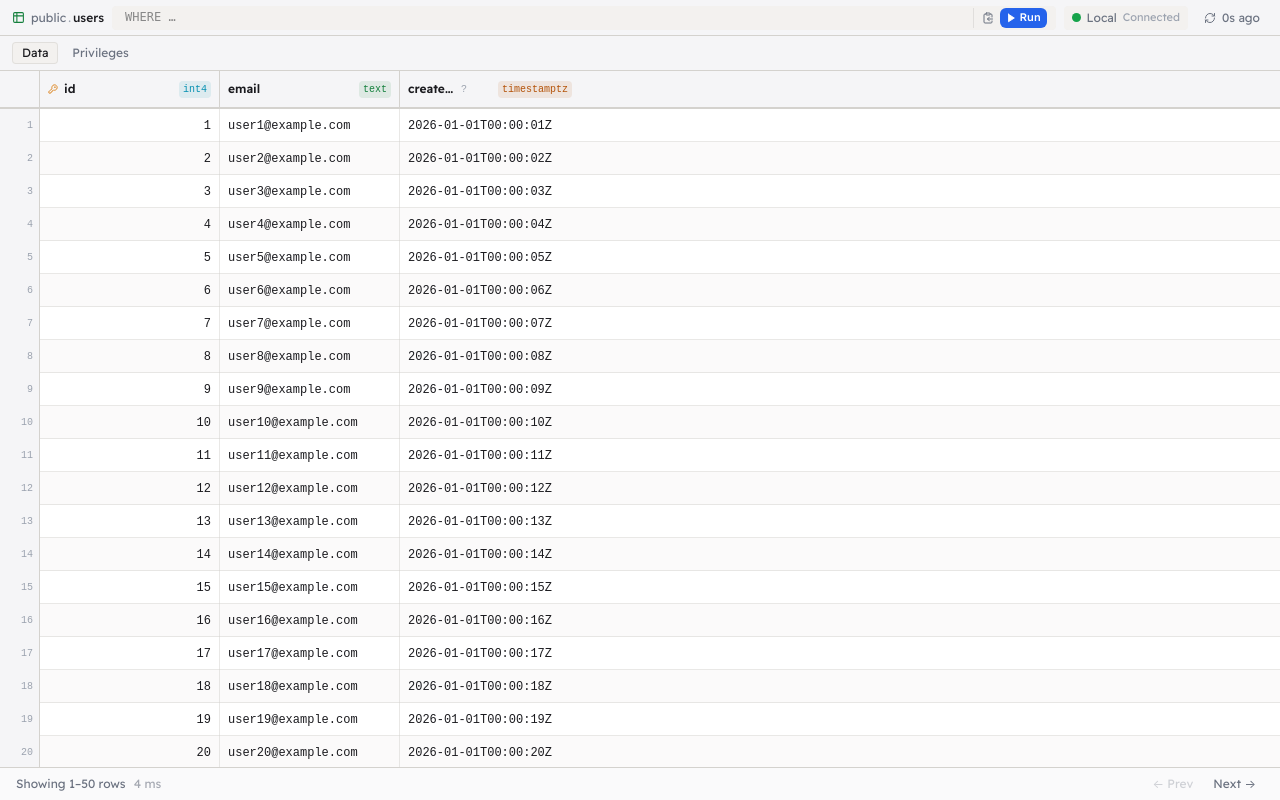
Test: pagination › steps forward on the backend's probe row when the total count is disabled
Click the button "Next →" at x=1235, y=784, box [1205,774,1264,794]
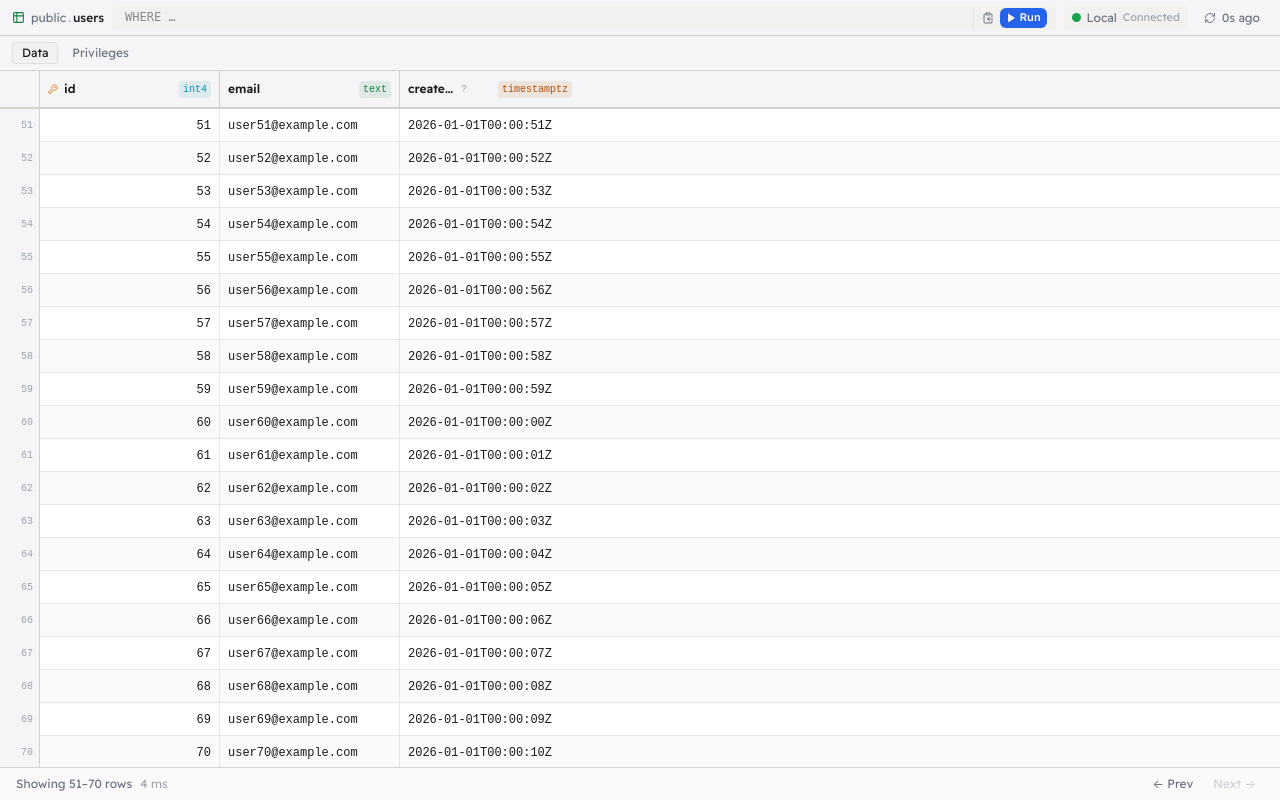
expect the button "Next →" is disabled: met, box [1205,774,1264,794]
